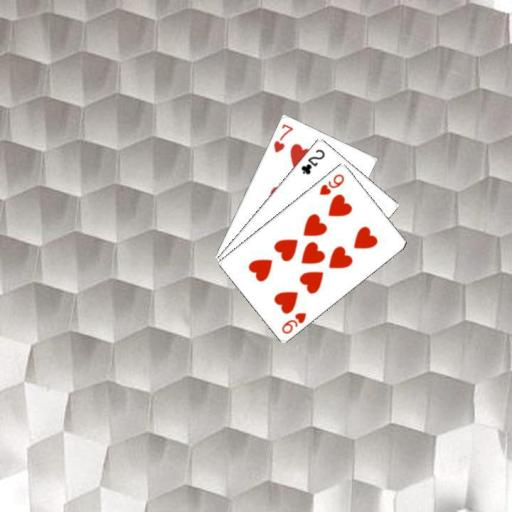2C: (298, 146, 326, 176)
7H: (271, 120, 295, 154)
9H: (317, 170, 346, 196), (279, 309, 308, 335)
